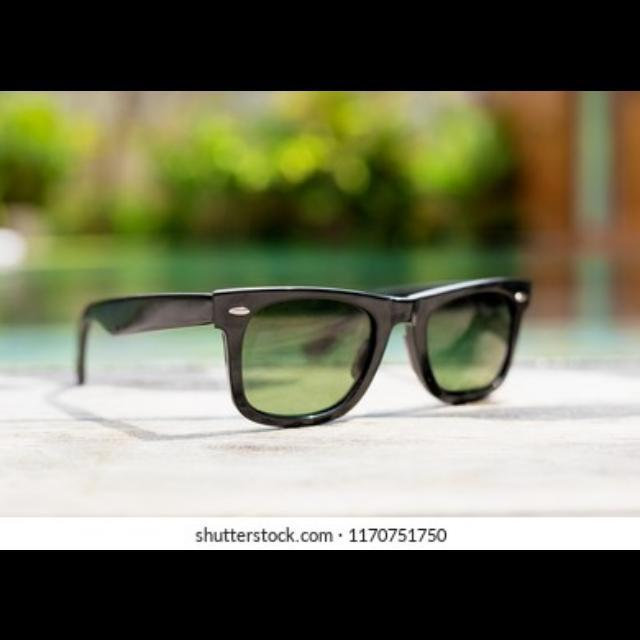sunglasses: (77, 274, 533, 426)
